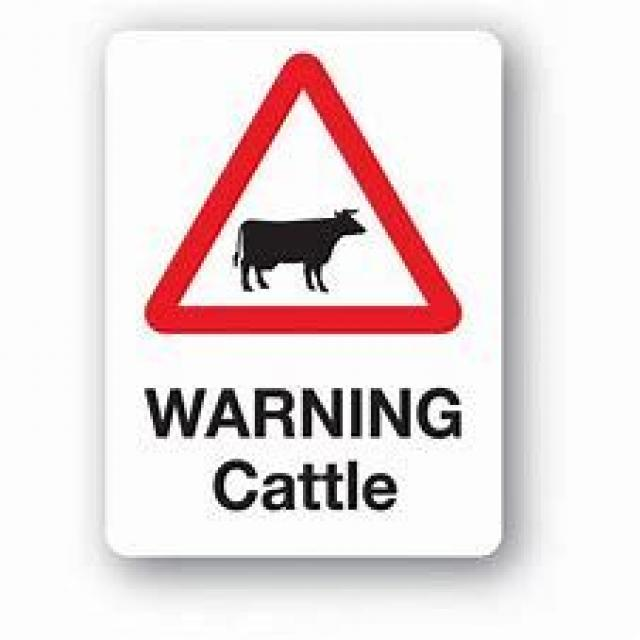CATTLE: (136, 51, 470, 340)
